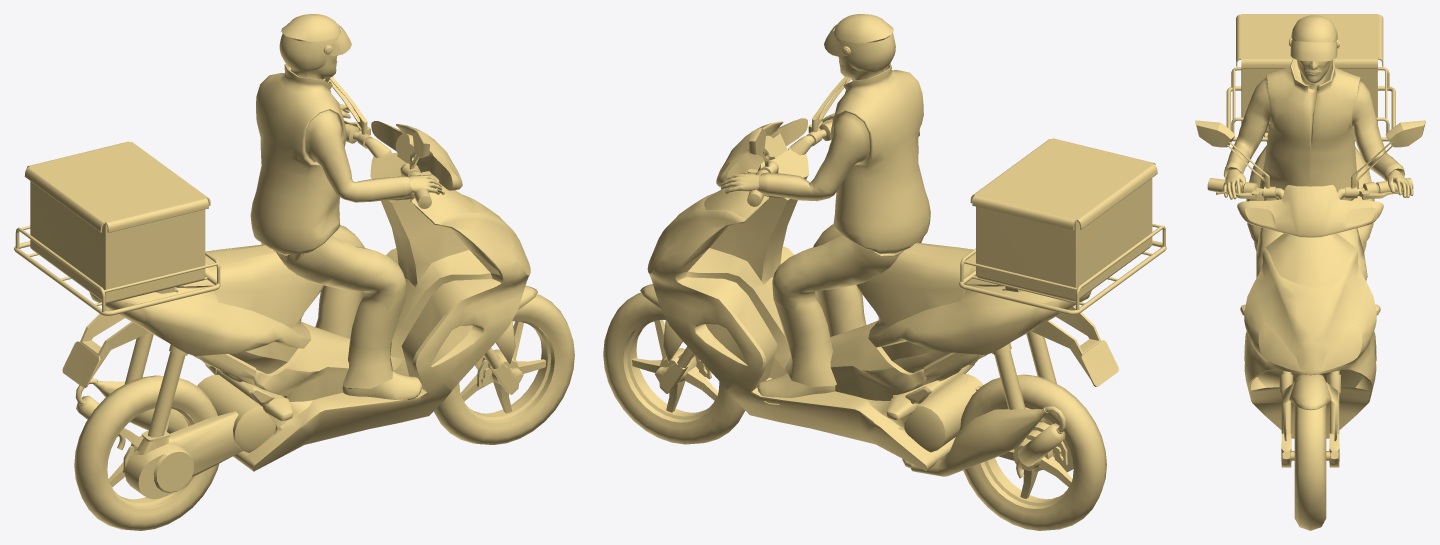
Rendered from car151.glb.
3 views of the same model, side by side, from view 1: azimuth 30°, elevation 25°; view 2: azimuth 150°, elevation 25°; view 3: azimuth 270°, elevation 25° (orthographic). The views are drawn at different scales.
Parts seen in each view (by area): view 1: E_LeMa; view 2: E_LeMa; view 3: E_LeMa.
Part boxes in pixels (left/top/right/bottom): E_LeMa: left=14, top=14, right=574, bottom=530; E_LeMa: left=603, top=14, right=1166, bottom=530; E_LeMa: left=1195, top=14, right=1425, bottom=530.
Bounding box in the file's own units: 2.16 × 1.89 × 0.9331.
